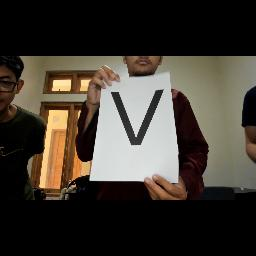v: (108, 88, 166, 148)
